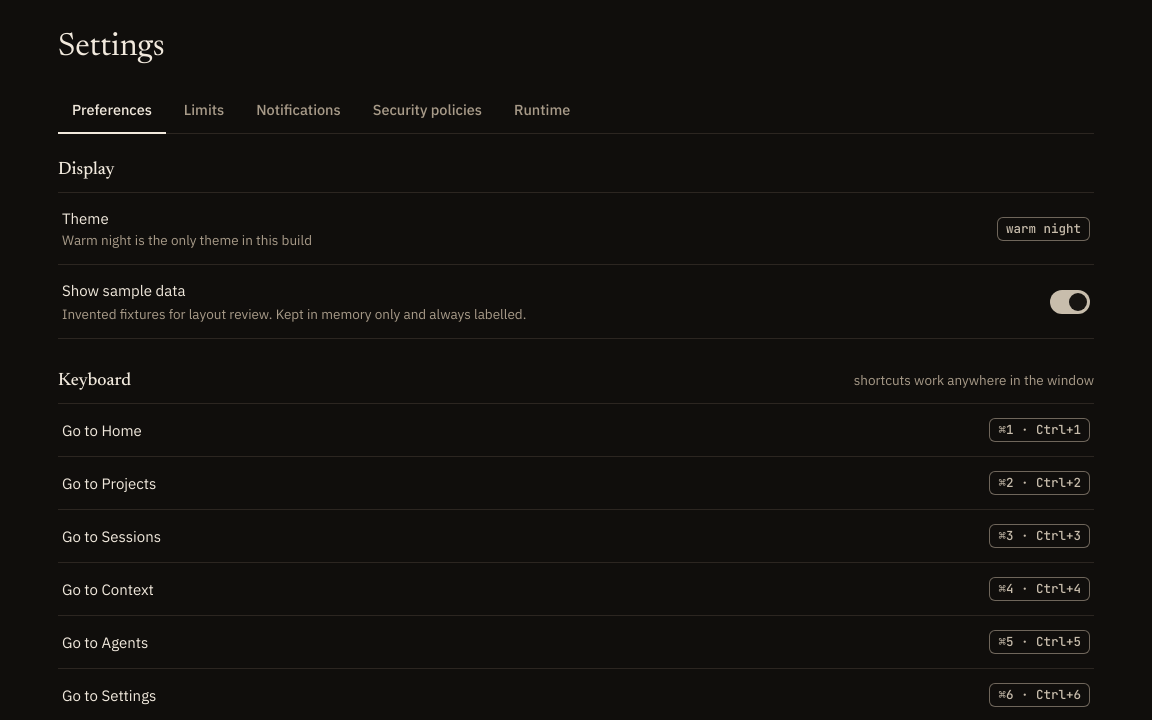
runtime status in Settings › shows fixed copy for runtime_not_installed and no native text
Click the tab "Runtime": (542, 112) [500,90,584,134]
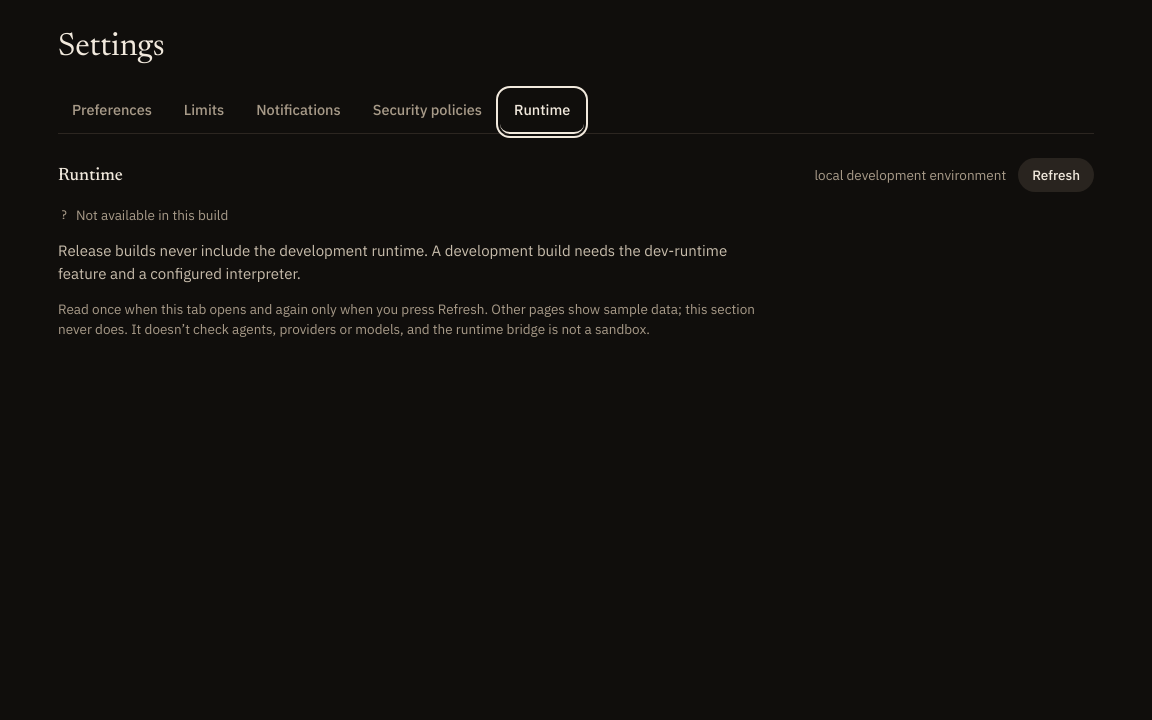
Expected: the element "Runtime" does not show "Fixed native message", [58,158,1094,339]
Expected: the message reads "Not available in this build", [76,206,228,224]
Expected: the element "Runtime" shows "Release builds never include the development runtime.", [58,241,727,283]
